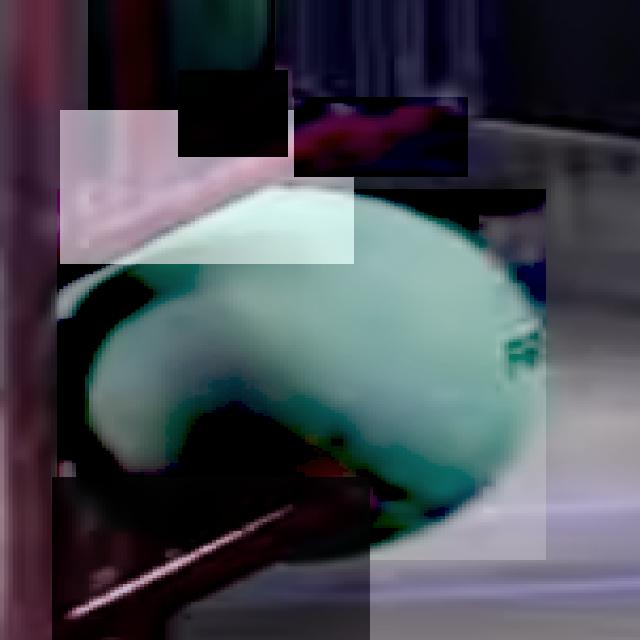Algae: (57, 189, 546, 560), (88, 0, 275, 112)
Reef: (52, 477, 370, 640), (60, 110, 354, 264), (294, 97, 468, 177), (178, 70, 288, 157)
